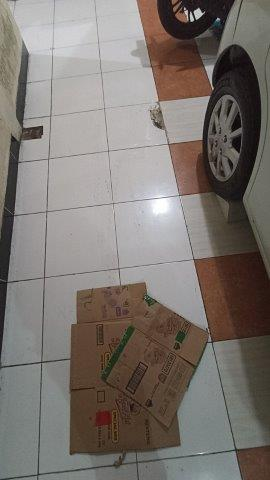kardus: (70, 284, 209, 452)
